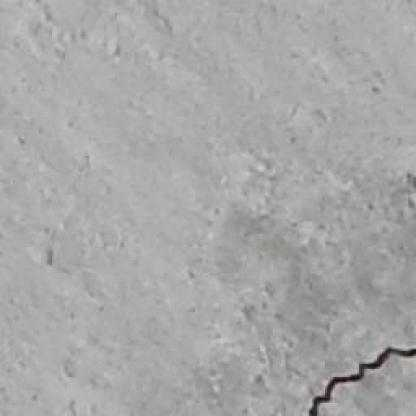crack: (308, 344, 415, 415)
